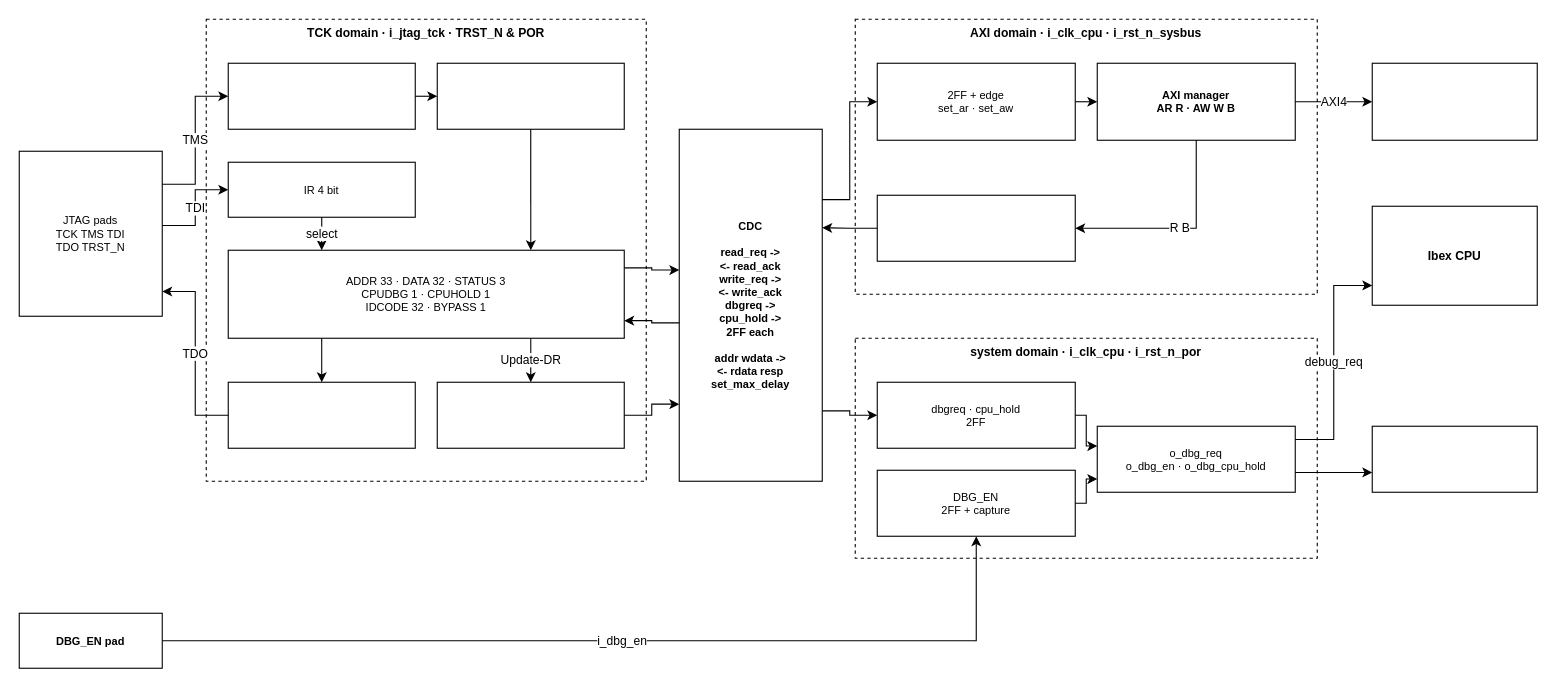
Image size: 1557x688. Some labels were removed from this diagram. The shapes that lost their labels are listed below. From the top down, each one's centre as x and y in pixels, then its label:
point 321,95: TAP FSM 16 states
point 530,95: control signals capture shift update
point 1454,101: S_BUS AXI_S0
point 975,227: rdata_reg · resp_reg read_ack · write_ack
point 321,414: TDO mux falling-edge flop
point 530,414: read_req · write_req busy
point 1454,458: SCRC · boot mux IO MUX
